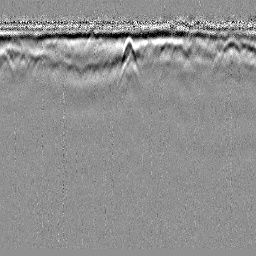cavity: (120, 34, 136, 61)
